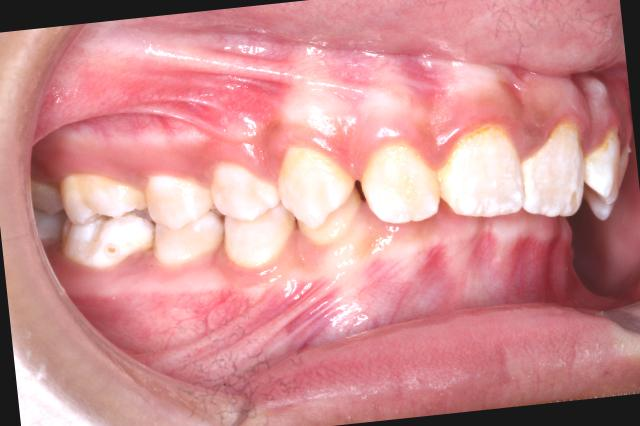canine class II 1/2: (214, 138, 368, 282)
molar class II 1/4: (47, 160, 162, 282)
